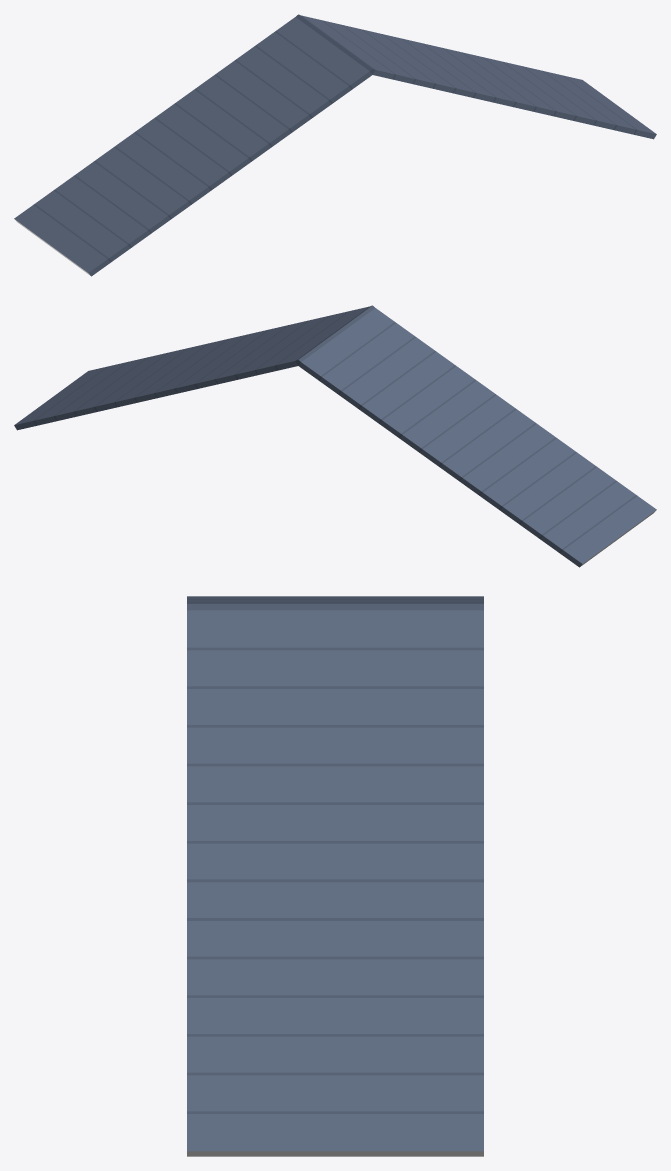
File: Roof5_C4_01.fbx
3 views of the same model, one above another, from view 1: azimuth 30°, elevation 25°; view 2: azimuth 150°, elevation 25°; view 3: azimuth 270°, elevation 25° (orthographic). The views are drawn at different scales.
Visible parts, largest first — view 1: Roof5_C4_01; view 2: Roof5_C4_01; view 3: Roof5_C4_01.
Part boxes in pixels (<box>): Roof5_C4_01: <box>14,14,656,276</box>; Roof5_C4_01: <box>14,305,656,567</box>; Roof5_C4_01: <box>187,596,483,1156</box>.
Size of the model in its own units: 1105 by 258 by 250.
